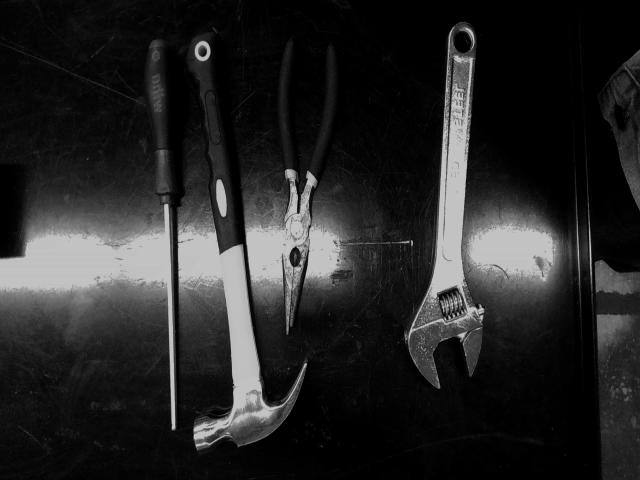Adjustable spanner: (405, 22, 485, 388)
Hammer: (186, 32, 306, 452)
Needle-nose pliers: (278, 38, 340, 333)
Screwdriver: (145, 38, 179, 430)
